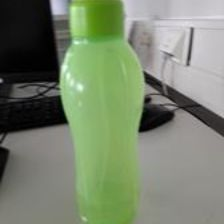bottle: (58, 1, 150, 224)
